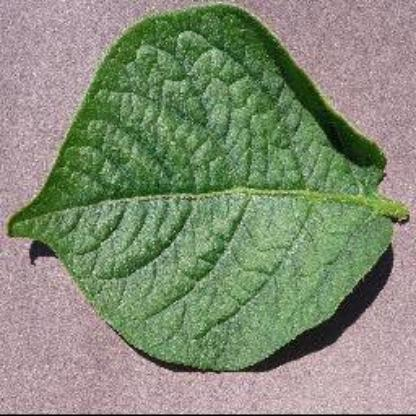Healthy-plant: (2, 3, 408, 379)
